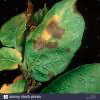Potato leaf early blight: (24, 0, 86, 83), (0, 0, 35, 48), (23, 3, 51, 45), (19, 68, 42, 93)
